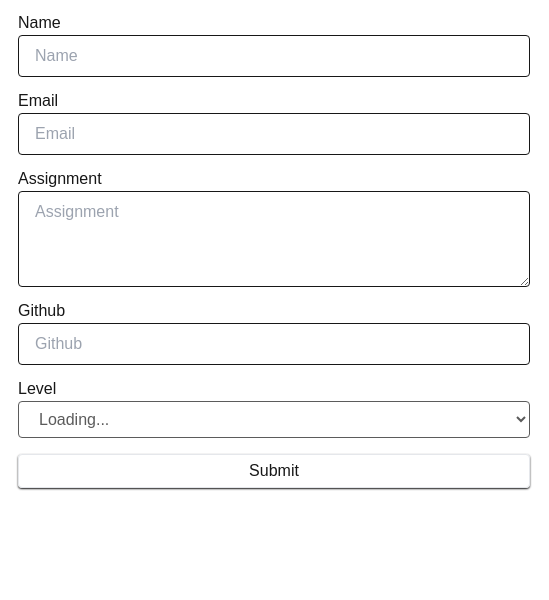
Test case: SubmissionForm › disables submit button when required fields are missing
The width and height of the screenshot is (549, 600).
Click the button "Submit" at [274, 471], box [18,454,530,488]
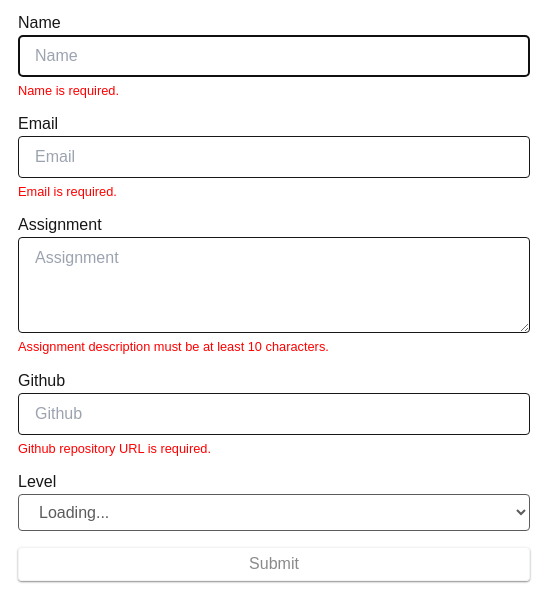
Expected: the button "Submit" is disabled, [18,547,530,581]
